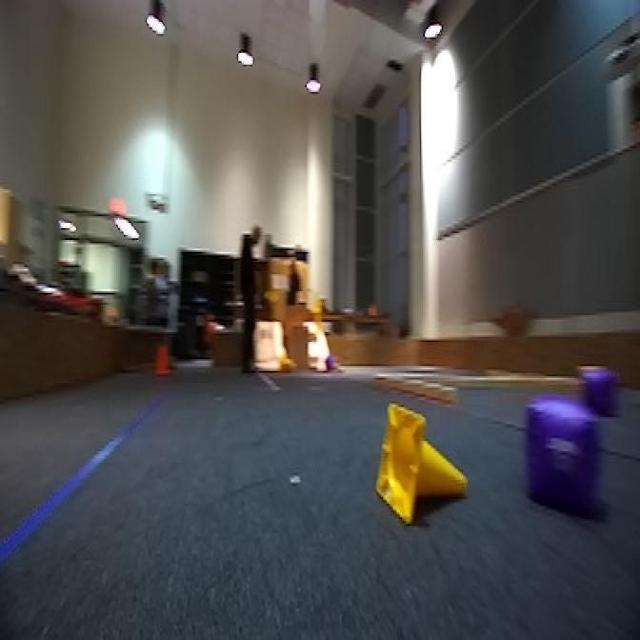frc_cone: (377, 405, 469, 524), (276, 352, 294, 377)
frc_cube: (522, 396, 599, 511), (577, 359, 615, 415), (322, 356, 337, 373)
